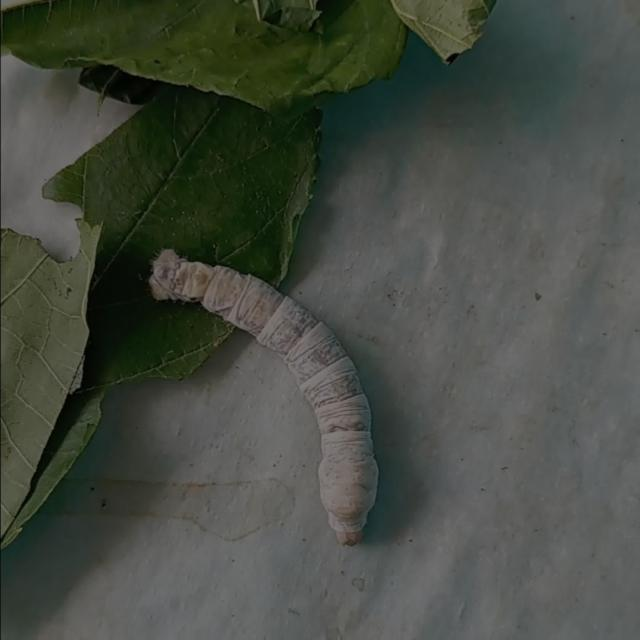Grasserie: (124, 214, 410, 556)
